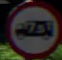Heavy Vehicles: (6, 7, 56, 51)
